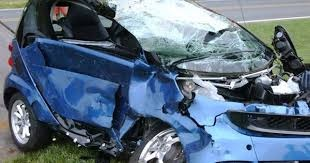Broken-glass: (110, 1, 269, 63)
Dent: (32, 43, 138, 156), (131, 58, 155, 119)
Smashed: (149, 60, 310, 163)
